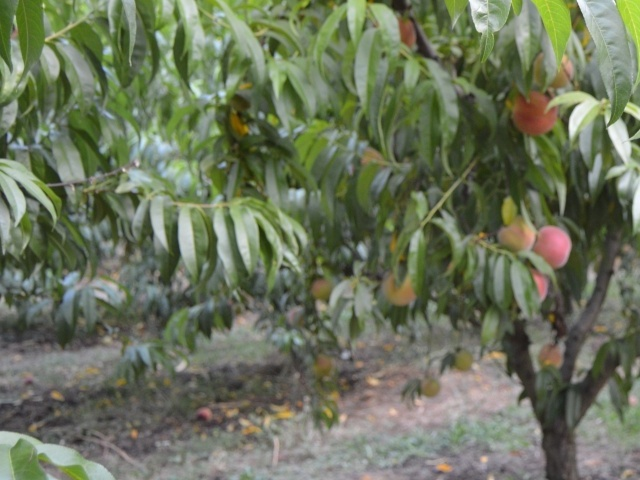peach: (509, 87, 563, 140), (523, 224, 575, 273), (527, 47, 579, 93), (491, 213, 538, 261), (378, 268, 423, 311), (534, 341, 566, 372), (448, 346, 479, 375), (306, 275, 334, 304), (415, 373, 440, 402), (308, 353, 333, 381)
